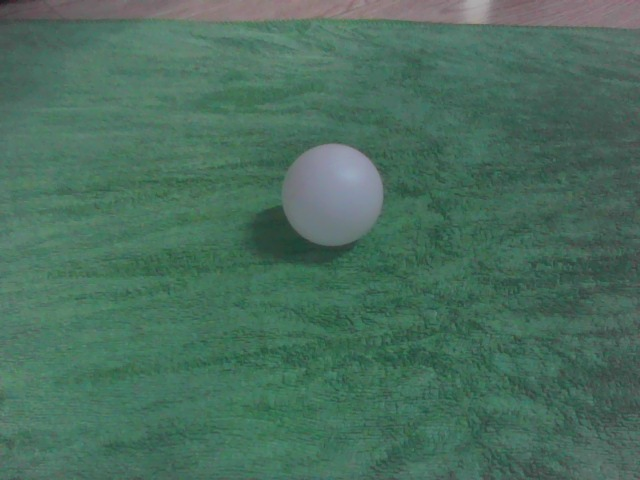ball: (284, 142, 384, 244)
